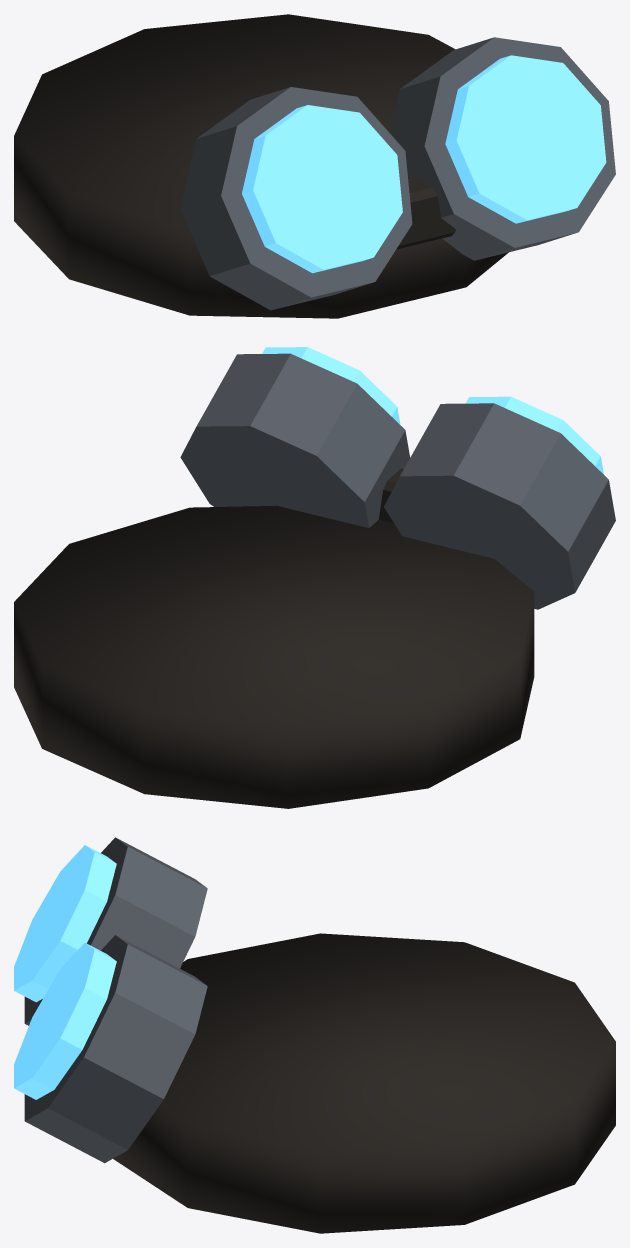
The model's file is npc_goggles_cyan.glb.
3 renders of one model, top to bottom at view 1: azimuth 30°, elevation 25°; view 2: azimuth 150°, elevation 25°; view 3: azimuth 270°, elevation 25°, orthographic.
Visible parts, largest first — view 1: part.npc_goggles_cyan; view 2: part.npc_goggles_cyan; view 3: part.npc_goggles_cyan.
Part boxes in pixels (x1,y1,x2,y2): part.npc_goggles_cyan: [14, 14, 615, 318]; part.npc_goggles_cyan: [14, 347, 615, 808]; part.npc_goggles_cyan: [14, 837, 615, 1233].
Size of the model in its own units: 0.2217 by 0.1098 by 0.2606.
